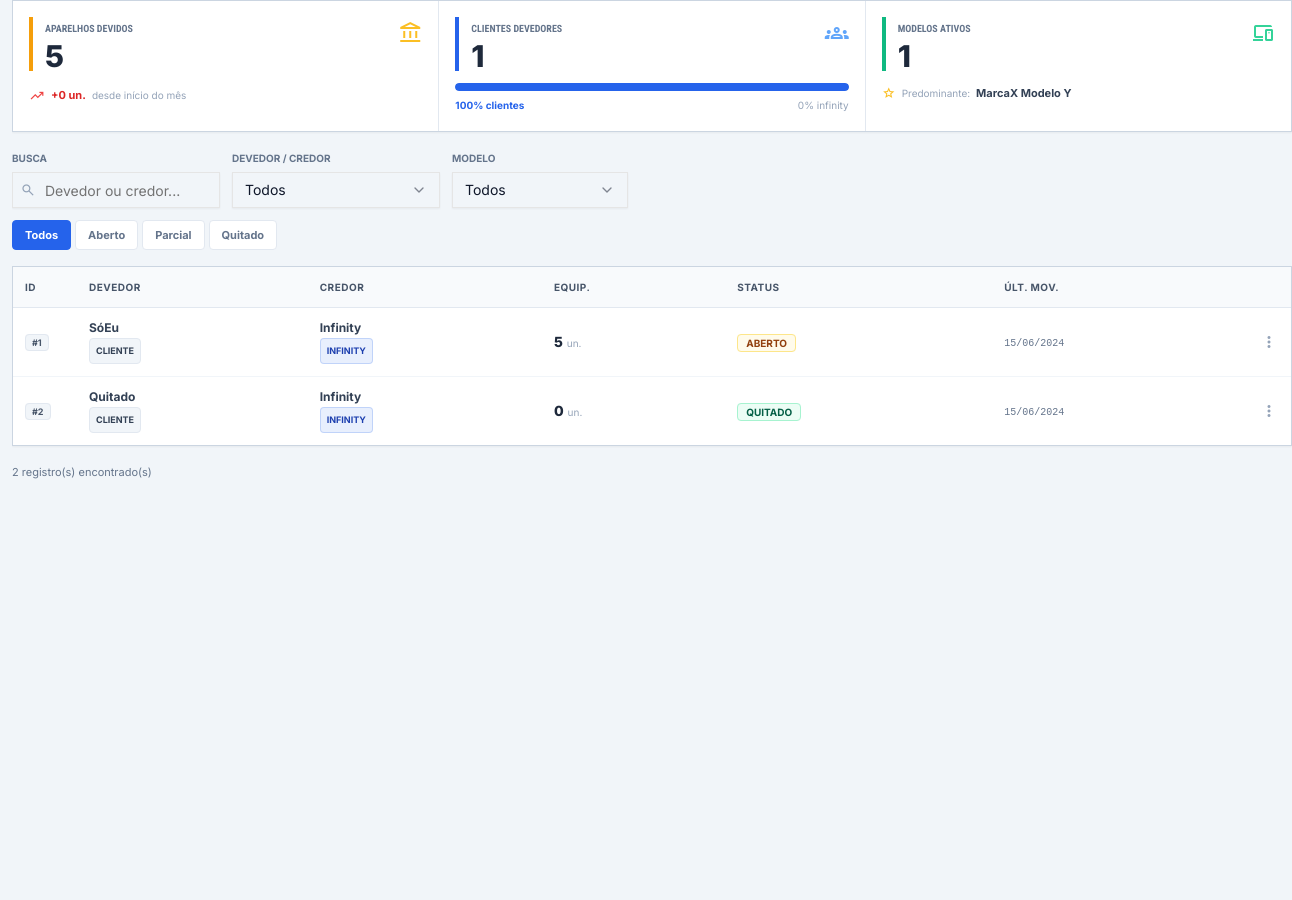
DebitosEquipamentosPage (integração) › expande linha e mostra painel de detalhes
The width and height of the screenshot is (1292, 900).
Click the text "SóEu" at (104, 328), box [89, 320, 119, 335]
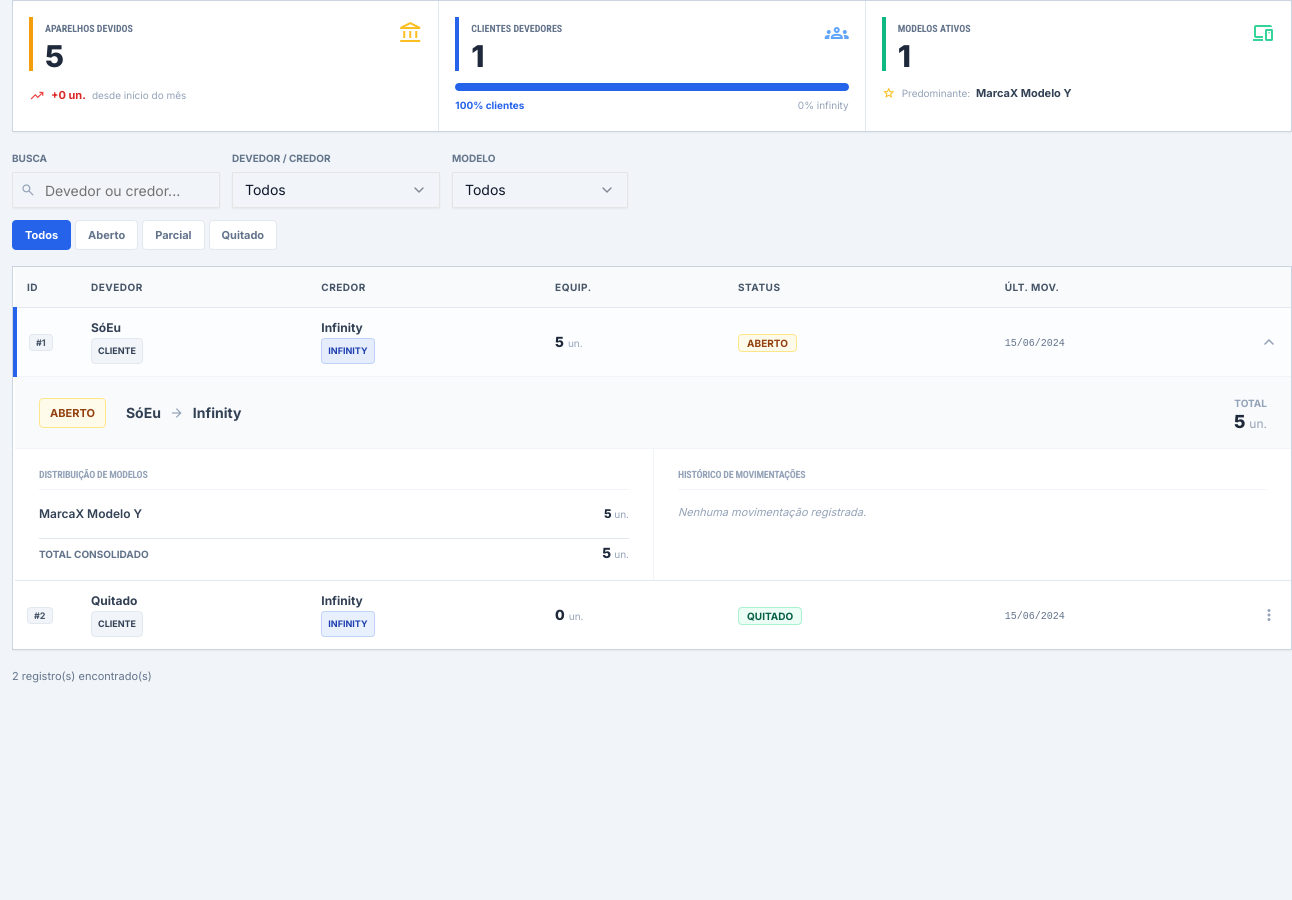
Now the heading "Distribuição de Modelos" is shown, box [39, 465, 629, 490]
